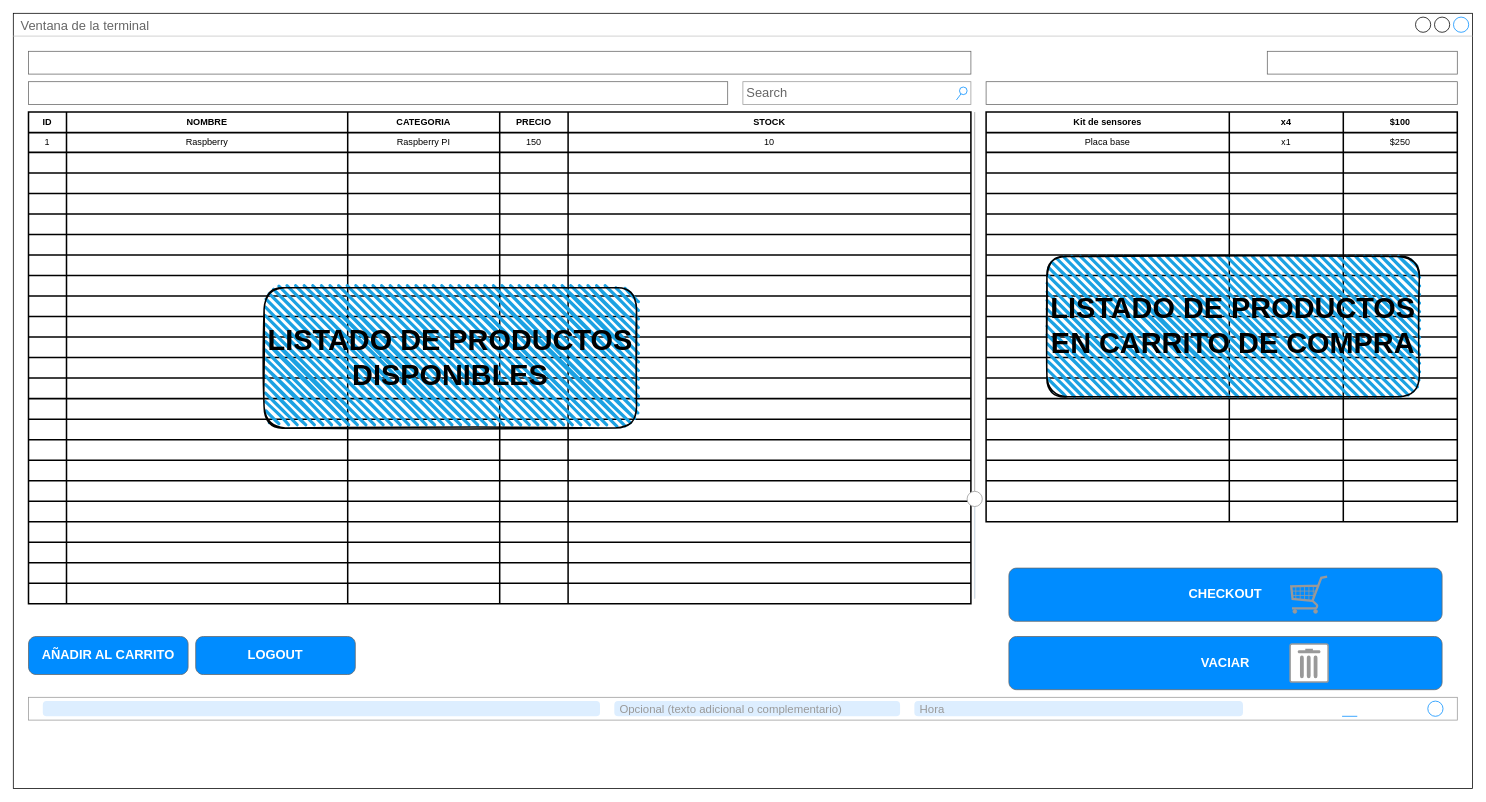
Some shapes in this 1486 by 802 pixel diagram are drawn without their labels. The shapes that lost their labels are listed below. From the top down, each one's centre as x and y in pixels, then its label:
At (499,62): "DOMO - TECH - TIENDA ONLINE".
At (1362,62): "[ ADMIN@SOFTEDGE-LABS ]".
At (378,92): "CATÁLOGO DE PRODUCTOS".
At (1221,92): "2 ítems".
At (321,708): "SISTEMA LISTO // [F1/H AYUDA] // NAVEGA CON ... (otras instrucciones de uso)".
